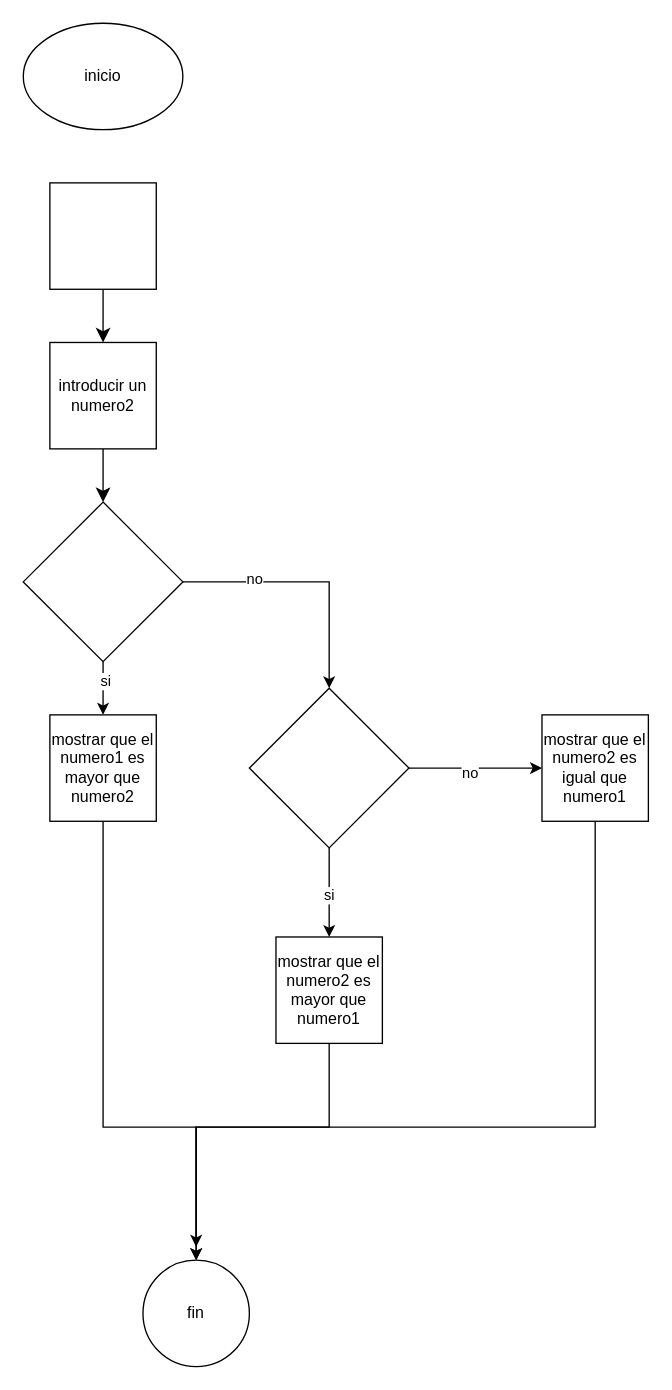
Some shapes in this 672 by 1390 pixel diagram are drawn without their labels. The shapes that lost their labels are listed below. From the top down, each one's centre as x and y in pixels, then its label:
the point at 102,235: introducir un numero1
the point at 102,581: numero1 mas grande que 2
the point at 328,767: numero2 mas grande que 1
